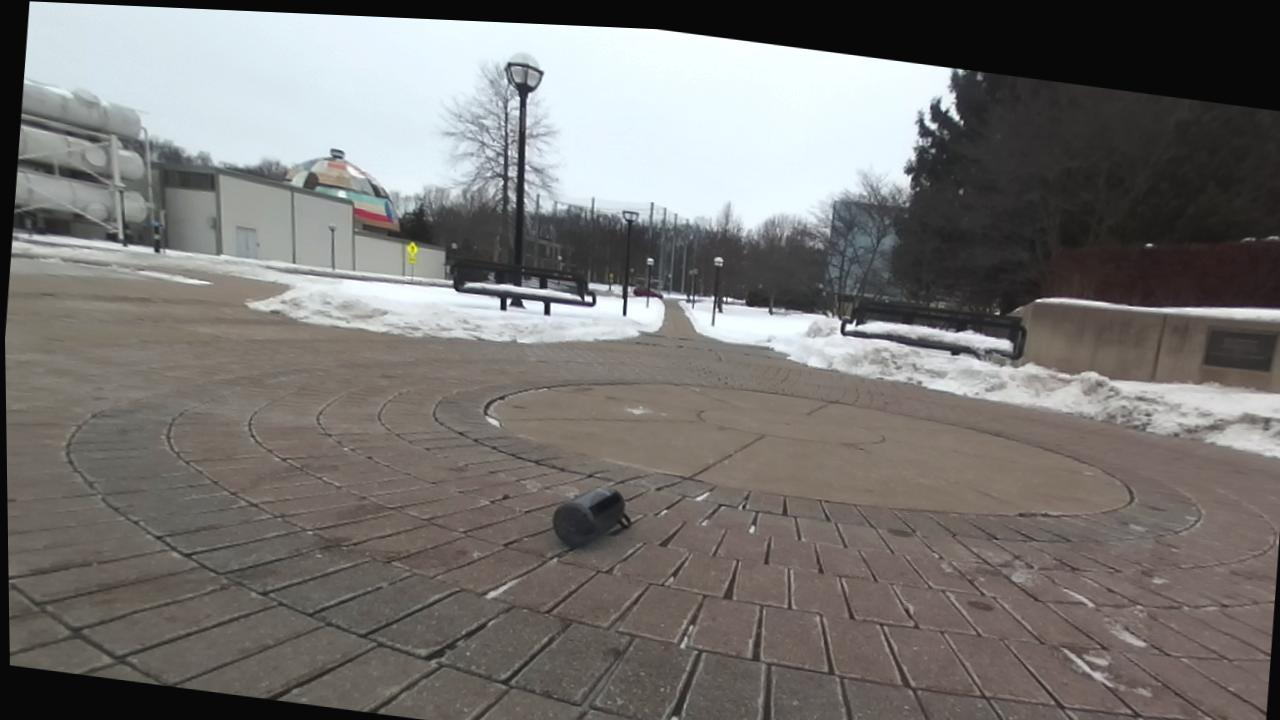bottle: (554, 488, 630, 547)
